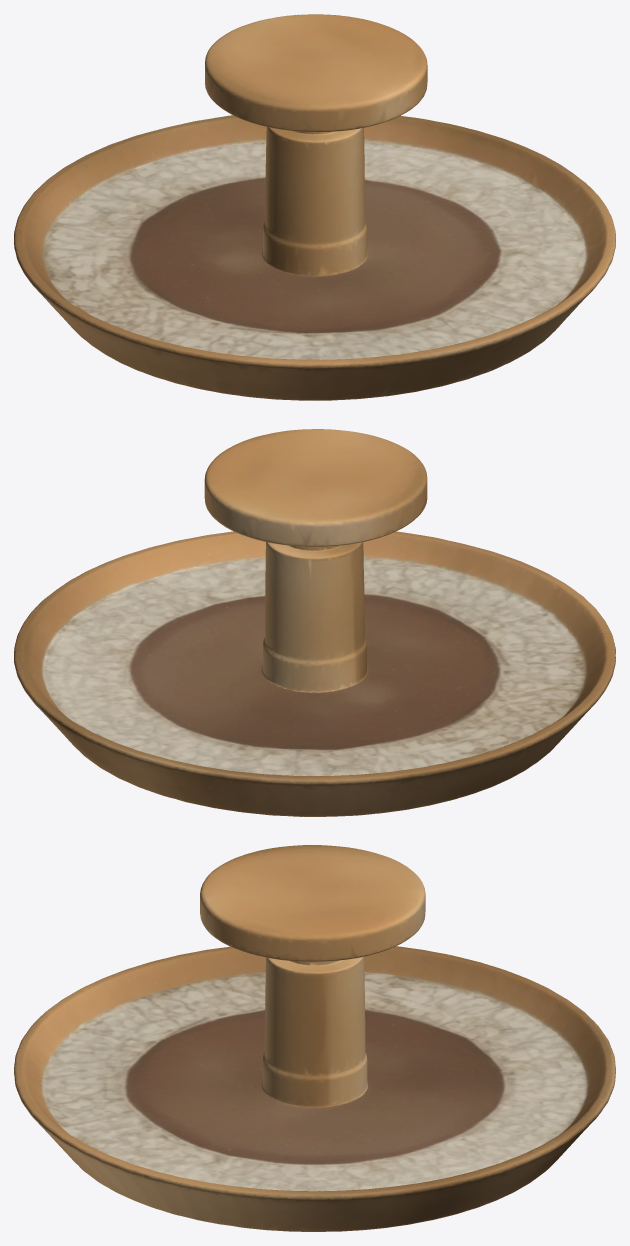
The model's file is Modern Matte Gold Semi-Flush Mount Ceiling Light [k9JniY].glb.
3 views of the same model, one above another, from view 1: azimuth 30°, elevation 25°; view 2: azimuth 150°, elevation 25°; view 3: azimuth 270°, elevation 25° (orthographic).
Parts seen in each view (by area): view 1: geometry_0; view 2: geometry_0; view 3: geometry_0.
Boxes of the visible parts, left/top/right/bottom form: geometry_0: left=14, top=14, right=615, bottom=400; geometry_0: left=14, top=429, right=615, bottom=816; geometry_0: left=14, top=845, right=615, bottom=1231.
Size of the model in its own units: 1 by 0.4313 by 1.
Materials: 1 (1 with a texture image).
